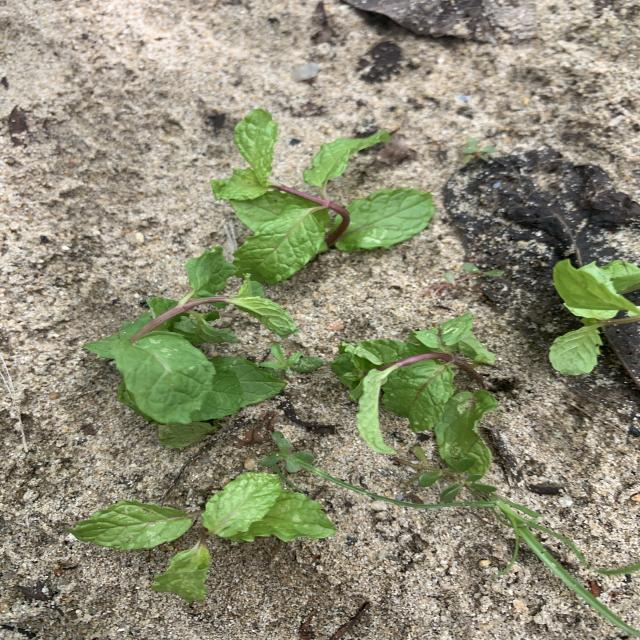crop: (84, 249, 291, 447), (212, 111, 434, 283), (69, 472, 334, 600), (332, 316, 497, 470), (548, 259, 638, 375)
weed: (462, 496, 639, 636), (394, 447, 495, 501), (425, 263, 502, 296), (260, 433, 314, 471), (260, 344, 322, 375), (461, 138, 495, 163)
